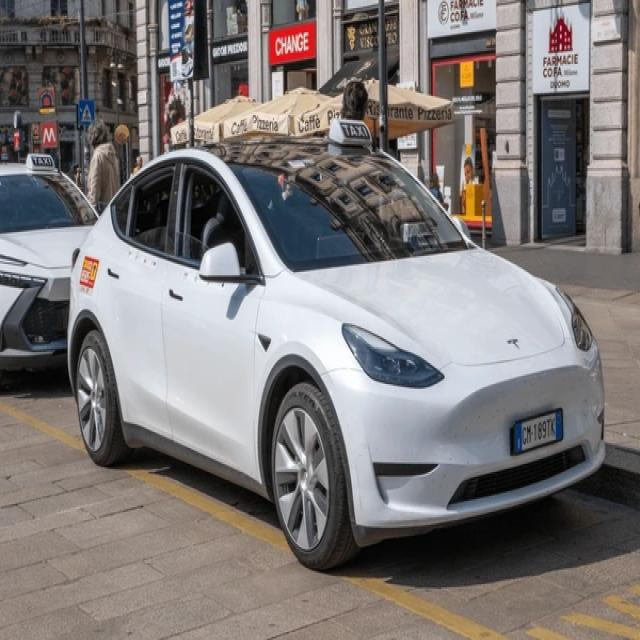tesla: (506, 335, 521, 353)
